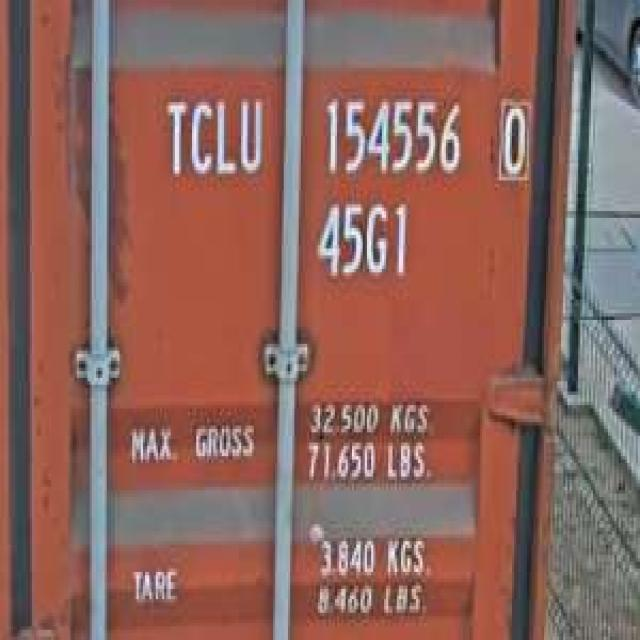dv: (493, 92, 533, 187)
owner: (158, 85, 267, 187)
serial: (318, 85, 465, 184)
size: (311, 191, 412, 286)
